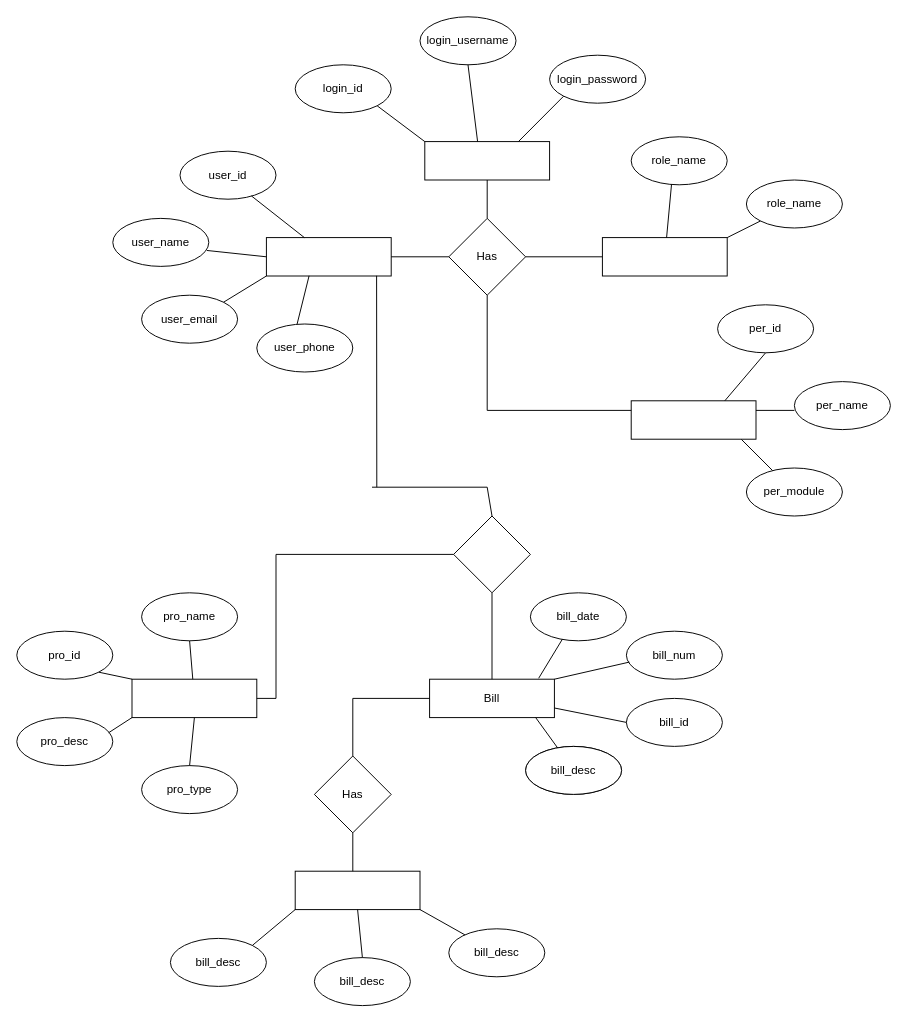
Image size: 907x1022. Some labels were removed from this diagram. The shapes that lost their labels are listed below. From the top down, each one's centre as x and y in pixels, then its label:
At (487,160): "Login".
At (328,256): "User".
At (664,256): "Roles".
At (693,419): "Permission".
At (491,554): "Manages".
At (194,698): "Product".
At (357,890): "Stock".
